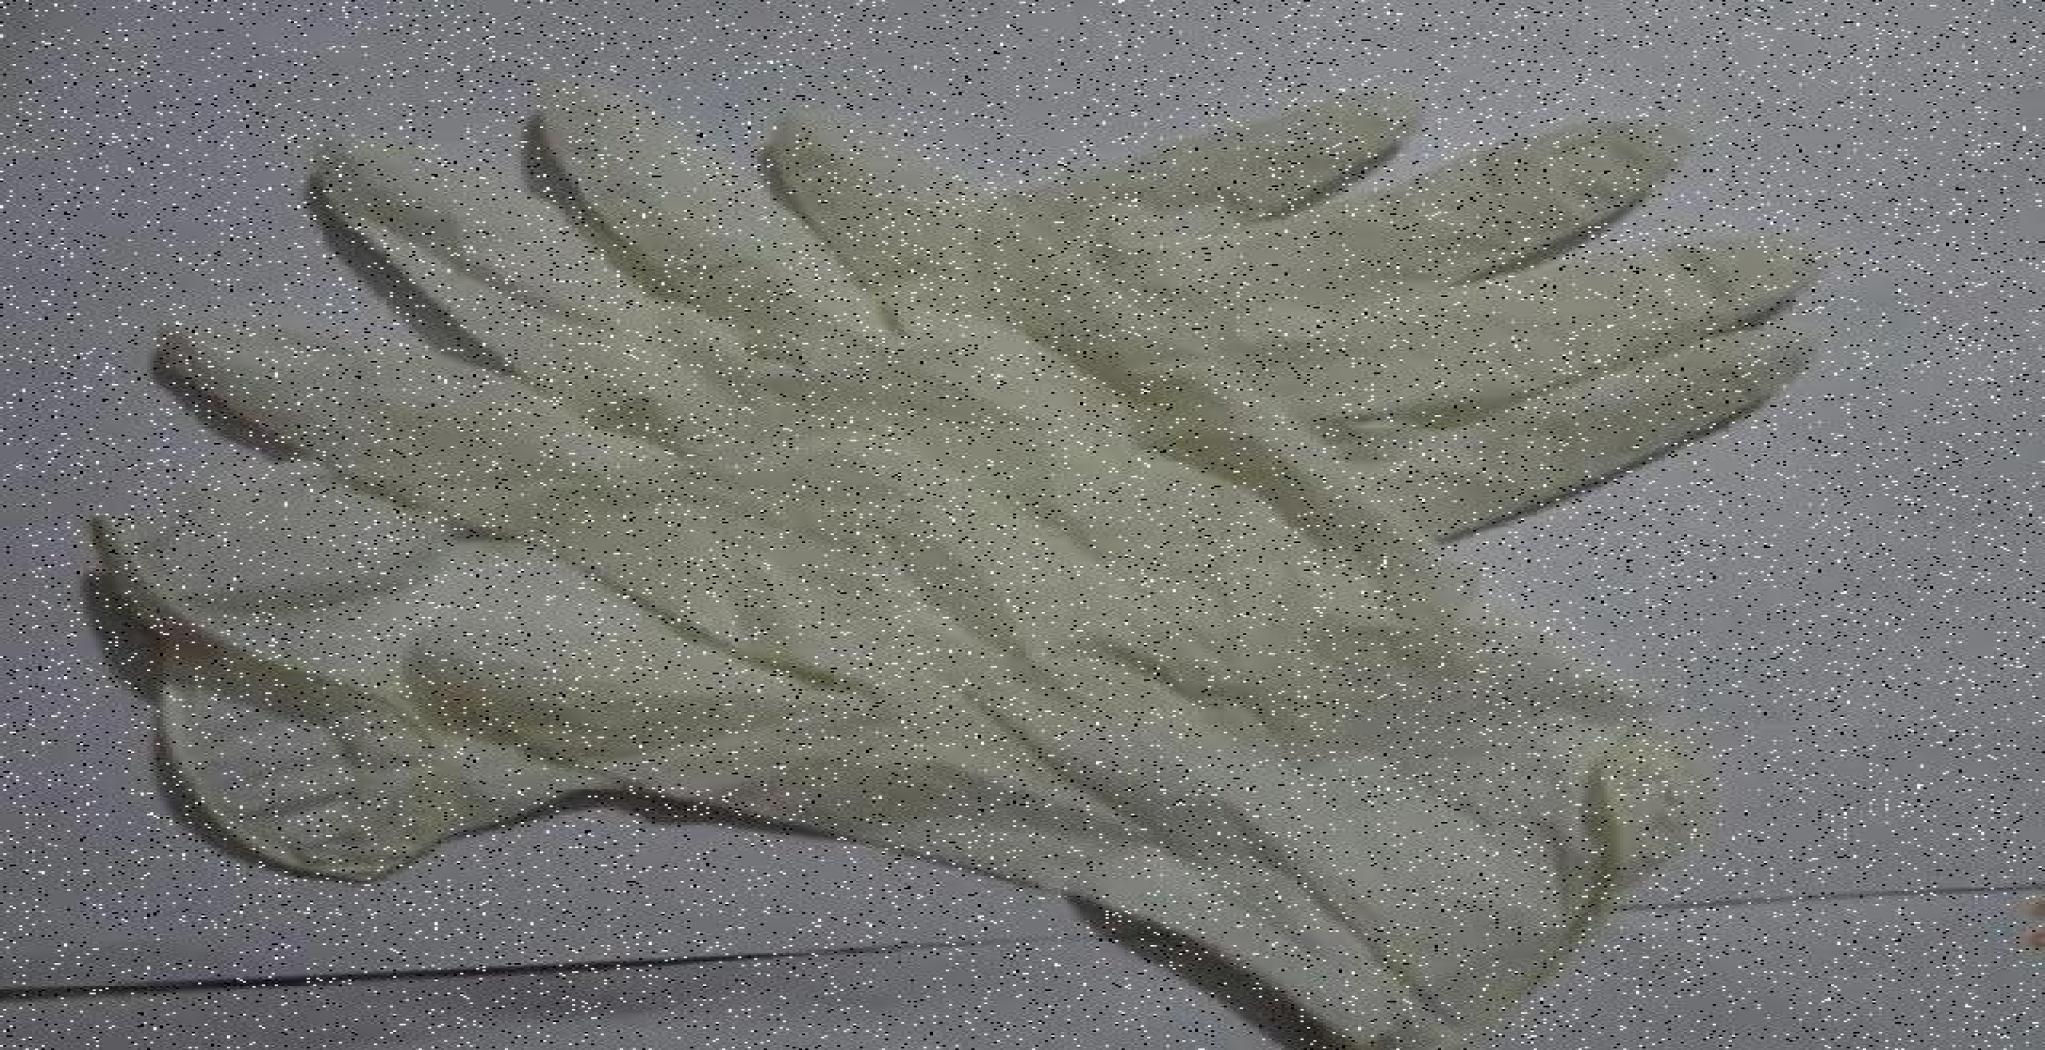gloved: (264, 119, 1736, 991), (1008, 46, 1808, 482)
